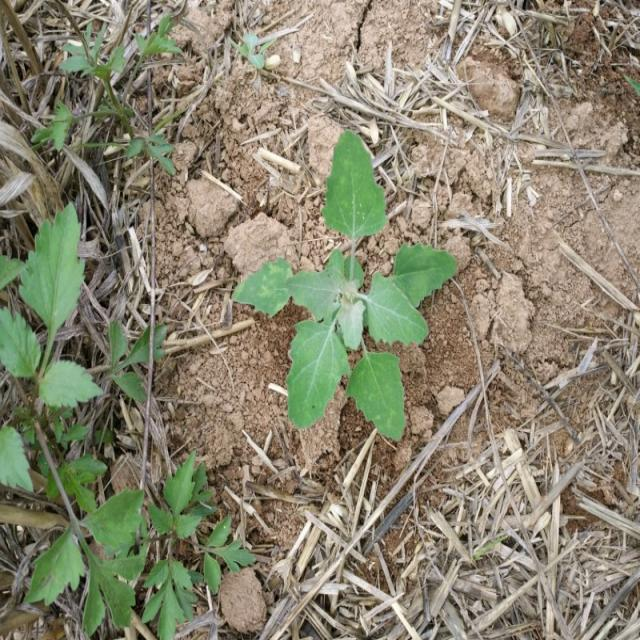ca: (232, 132, 459, 443)
